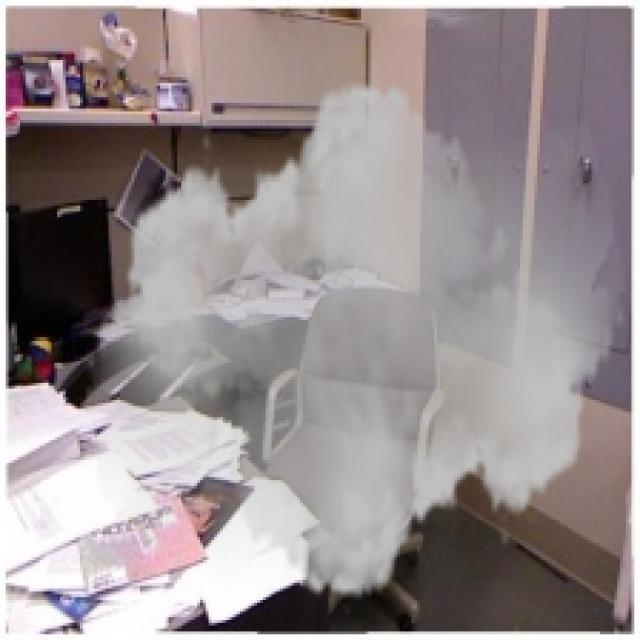Smoke: (85, 60, 626, 620)
